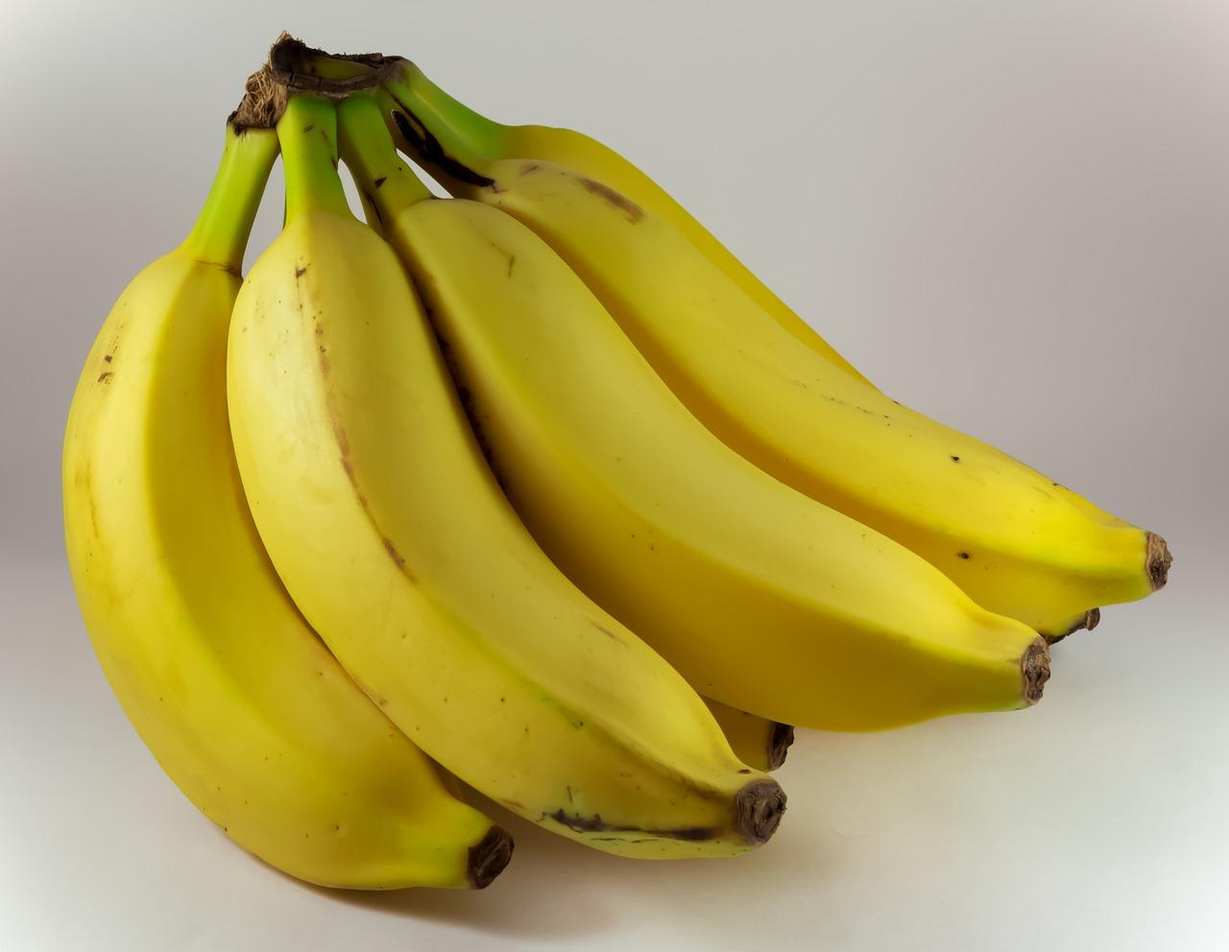banana: (60, 23, 1183, 914)
